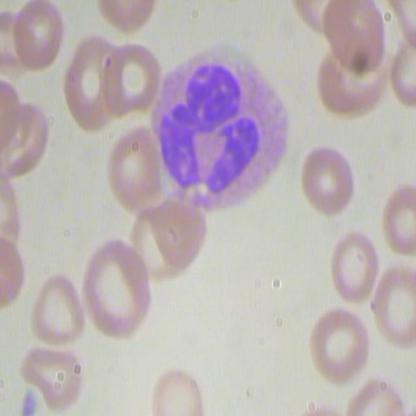RBC: (79, 237, 159, 341), (62, 33, 125, 137), (105, 121, 168, 216), (307, 306, 376, 386), (16, 341, 90, 415), (99, 41, 165, 119), (146, 193, 209, 269), (29, 269, 88, 349), (297, 142, 359, 218), (326, 226, 381, 304), (370, 263, 415, 352), (12, 1, 64, 75), (373, 180, 415, 260), (151, 360, 207, 415)
WBC: (140, 35, 298, 232)
